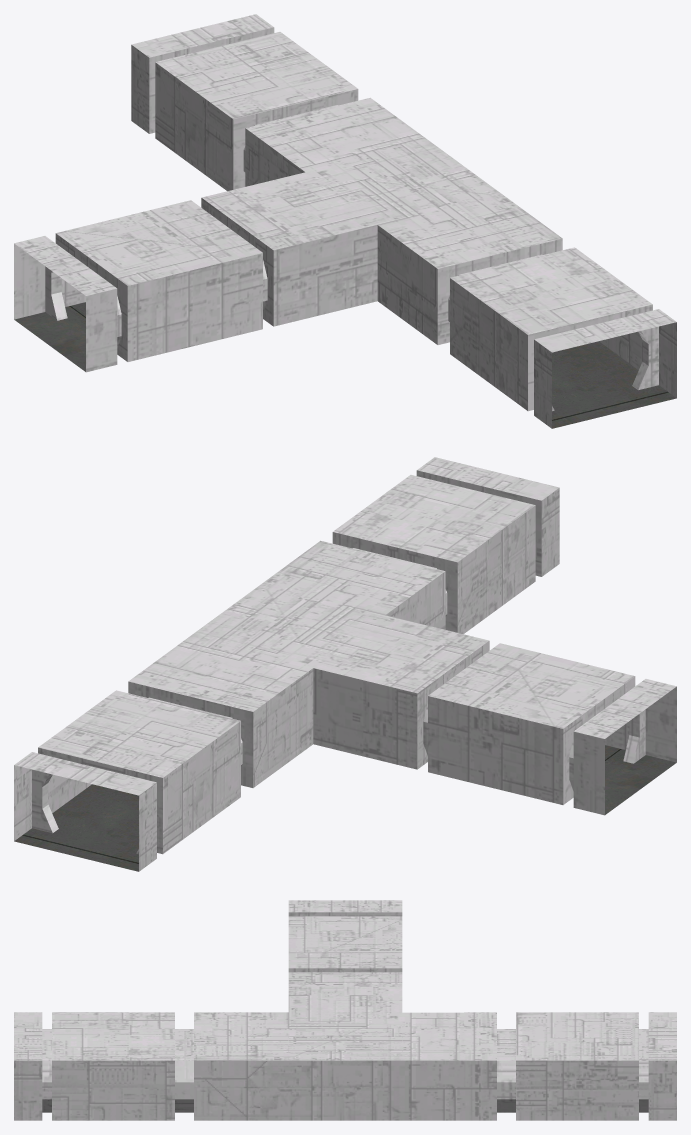
Rendered from thm_spc_star_destroyer_s01_r25_hallway06_mesh_r25.fbx.
3 renders of one model, top to bottom at view 1: azimuth 30°, elevation 25°; view 2: azimuth 150°, elevation 25°; view 3: azimuth 270°, elevation 25°, orthographic. The views are drawn at different scales.
Parts seen in each view (by area): view 1: mesh_node; view 2: mesh_node; view 3: mesh_node.
Boxes of the visible parts, box(x1,y1,x2,y2) form: mesh_node: box(14, 14, 676, 428); mesh_node: box(14, 457, 676, 871); mesh_node: box(14, 900, 676, 1120).
Bounding box in the file's own units: 20 × 3.5 × 35.
2 materials, 2 textured.
